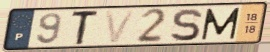2: (135, 8, 168, 45)
9: (34, 12, 64, 46)
M: (199, 7, 242, 42)
S: (169, 7, 204, 43)
T: (70, 9, 102, 46)
V: (103, 9, 138, 45)
